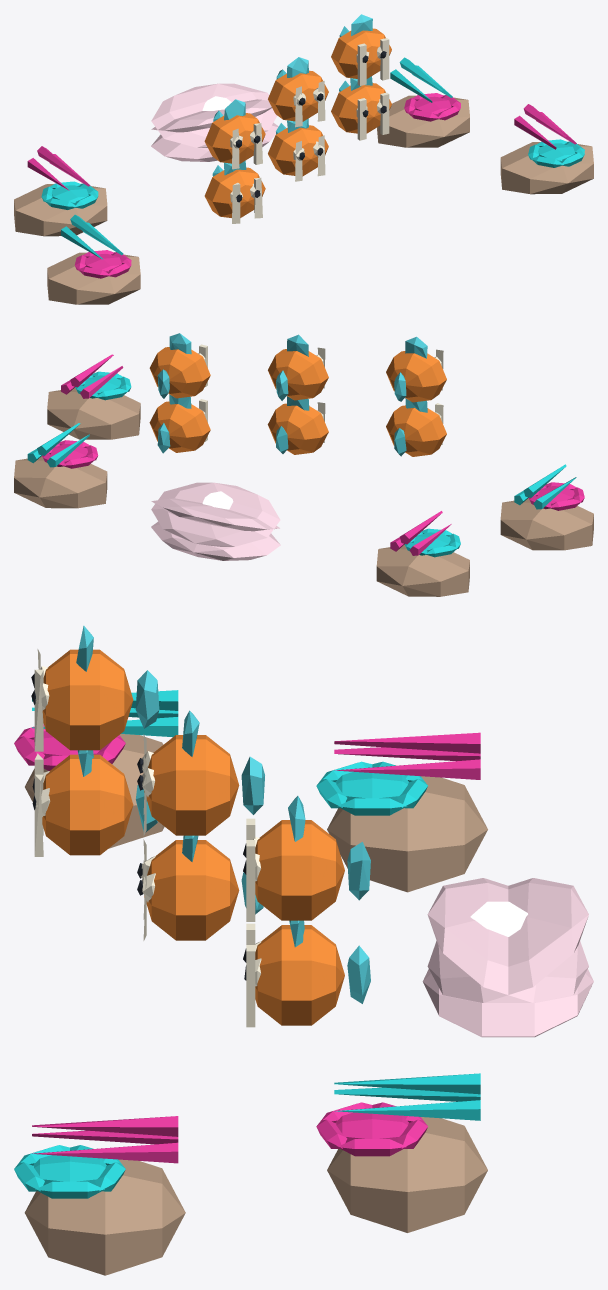
The model's file is pecera_fauna_r4.glb.
3 views of the same model, one above another, from view 1: azimuth 30°, elevation 25°; view 2: azimuth 150°, elevation 25°; view 3: azimuth 270°, elevation 25° (orthographic). The views are drawn at different scales.
Visible parts, largest first — view 1: Modelo; view 2: Modelo; view 3: Modelo.
Part boxes in pixels (box(x1,y1,x2,y2)): Modelo: box(14, 14, 593, 304); Modelo: box(14, 333, 593, 596); Modelo: box(14, 625, 593, 1275).
Bounding box in the file's own units: 11.99 × 3.62 × 5.76.
